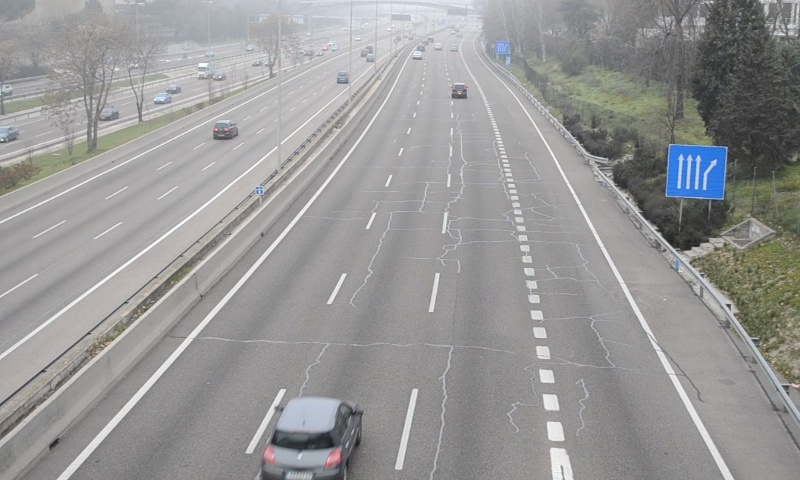car: (262, 396, 363, 480), (450, 82, 468, 99)
